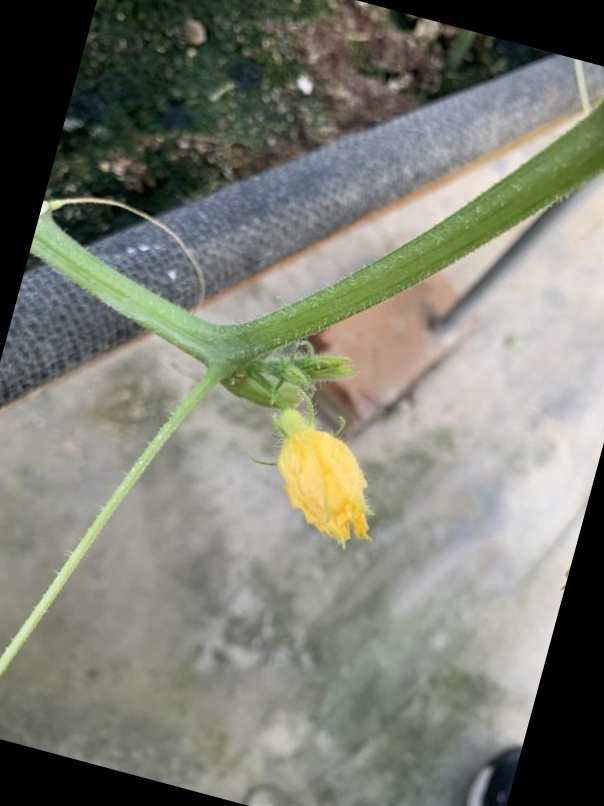bud: (245, 387, 443, 560)
